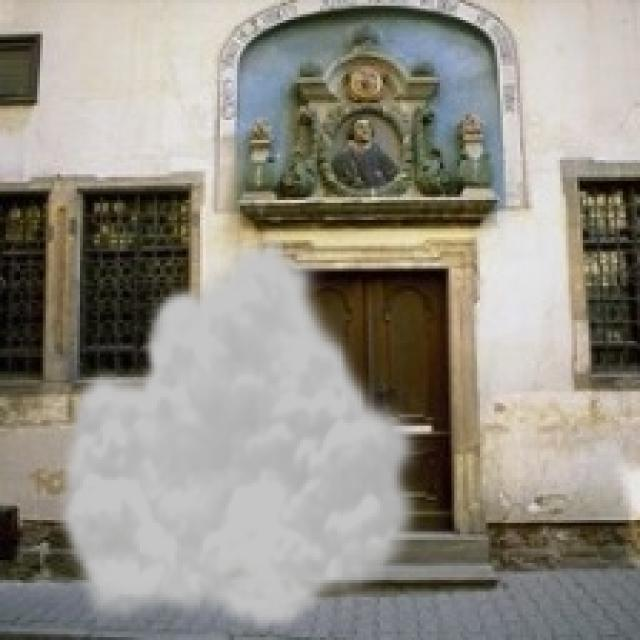smoke: (51, 229, 428, 634)
